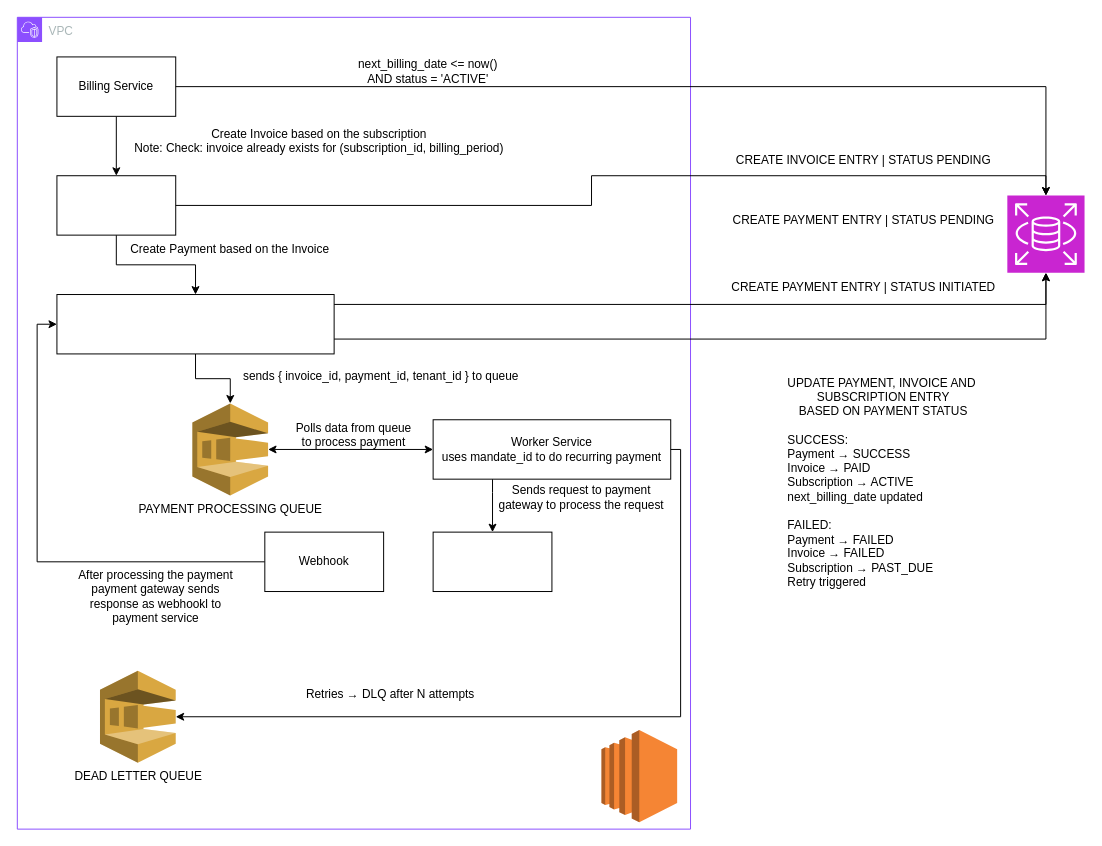
Some shapes in this 1102 by 846 pixel diagram are drawn without their labels. Each missing label, with the centre of its shape:
"Invoice Service" belongs at point 116,205.
"Payment Gateway" belongs at point 492,561.
"Payment Service (Idempotent updates using payment_id / txn_id)" belongs at point 195,324.
